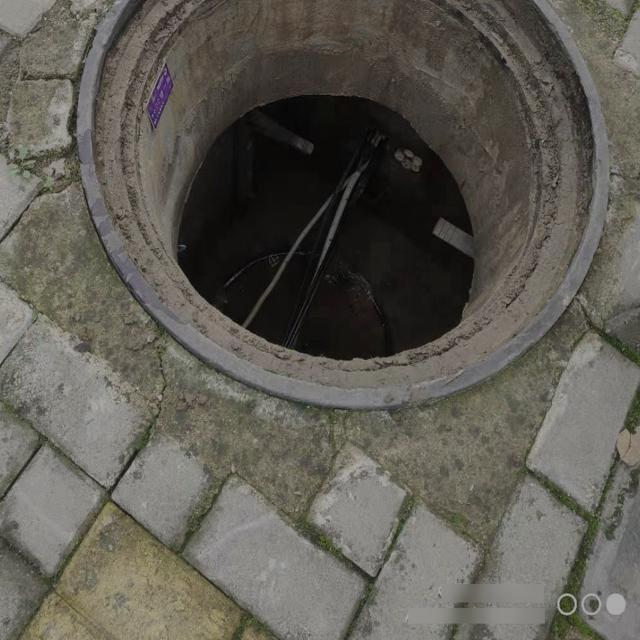lose: (75, 0, 615, 416)
